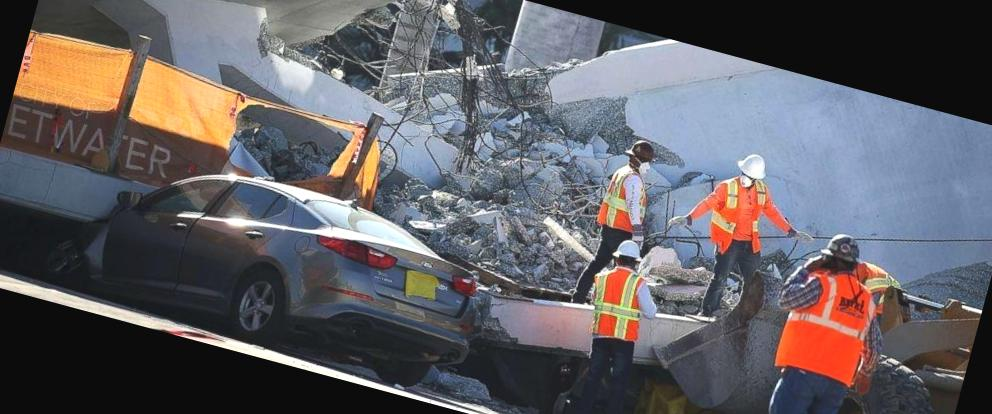helmet: (734, 146, 770, 182), (623, 132, 661, 166), (610, 232, 650, 264)
person: (732, 223, 896, 414), (680, 145, 794, 341), (558, 232, 679, 414), (591, 136, 666, 238)
